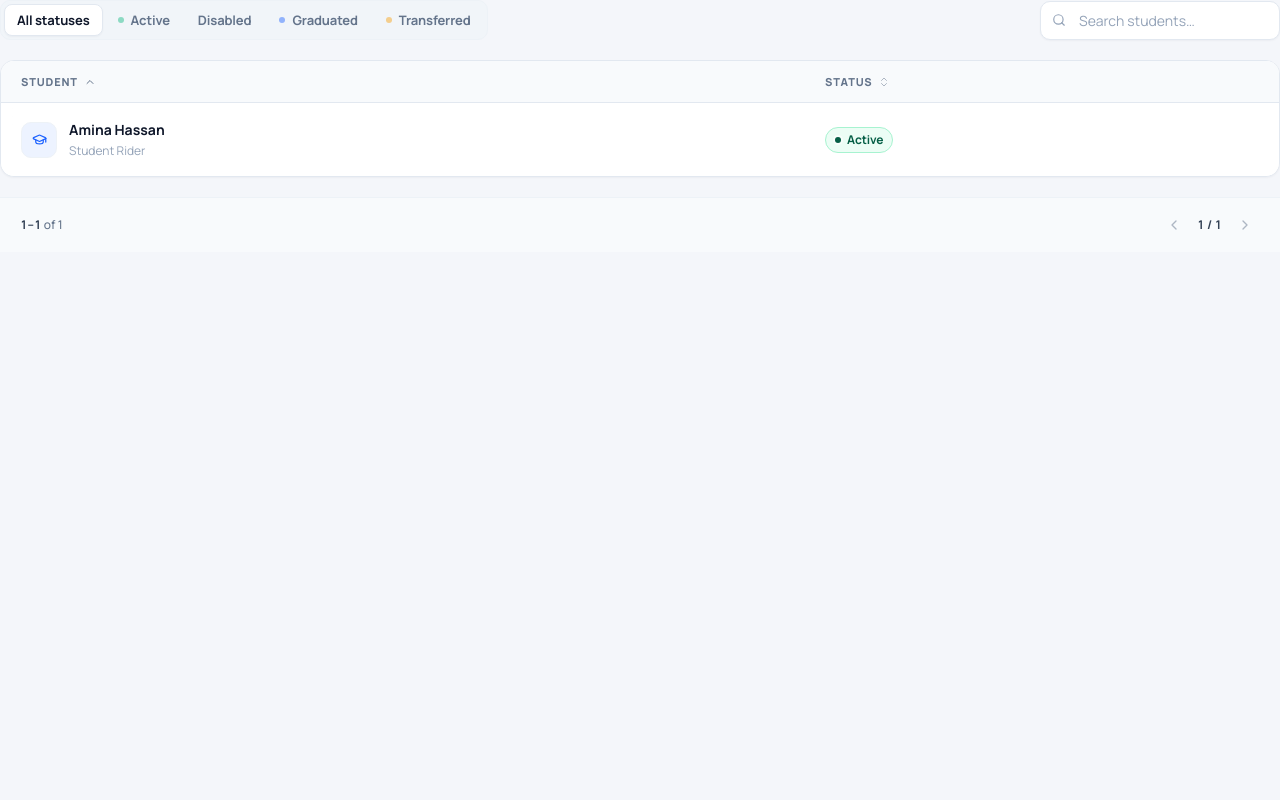
Scenario: StudentsPage › hides the New Student action, Add guardian action, and status actions for a read-only role
Click the text "Amina Hassan" at (117, 130), box [69, 119, 165, 141]
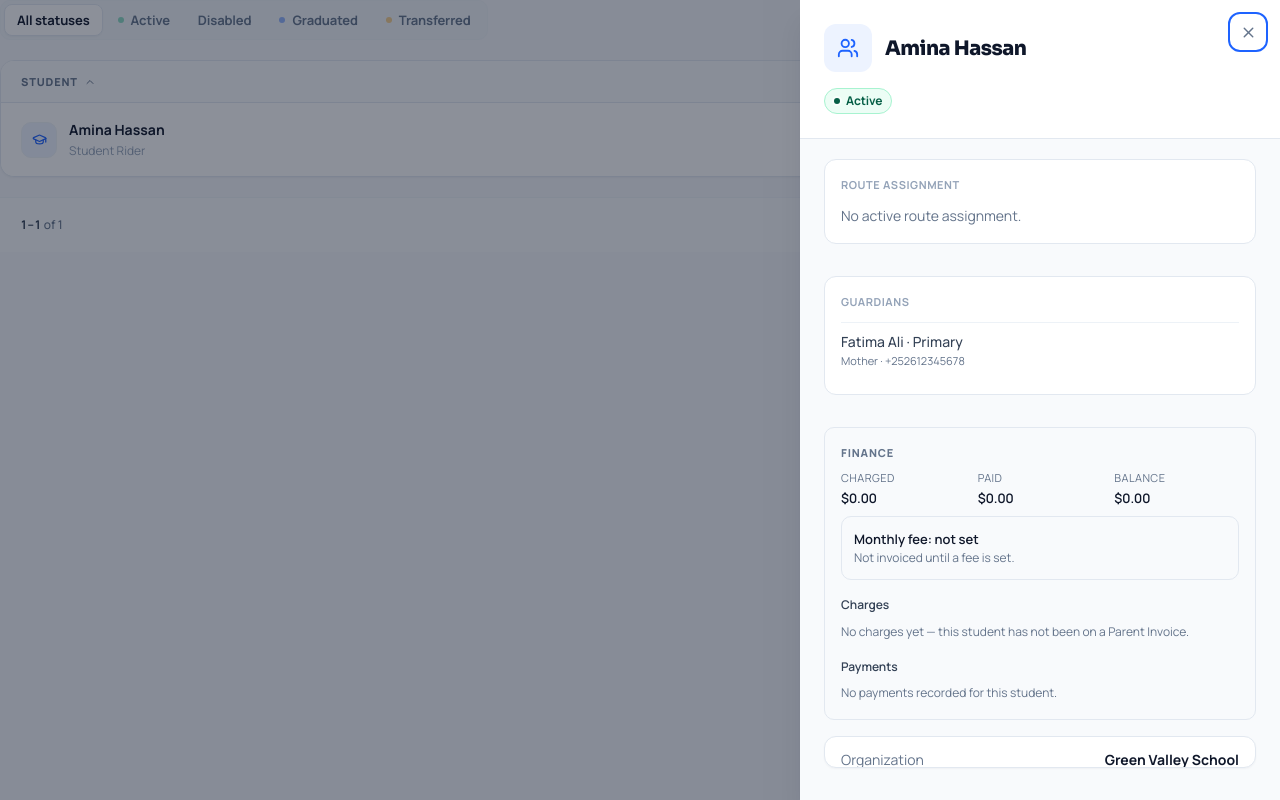
Expected: the text "Fatima Ali · Primary" is shown, [841, 331, 965, 352]
